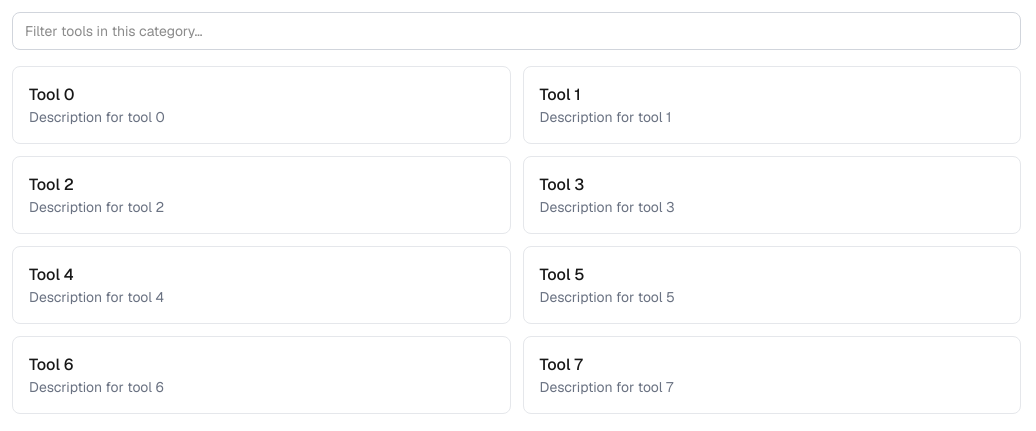
it: CategoryToolFilter › shows the filter input once a category has enough tools, and filters by name
Type "Tool 3" into the search field with placeholder "Filter tools in this category…".
click(516, 31); type("Tool 3")  # box [12, 12, 1021, 50]
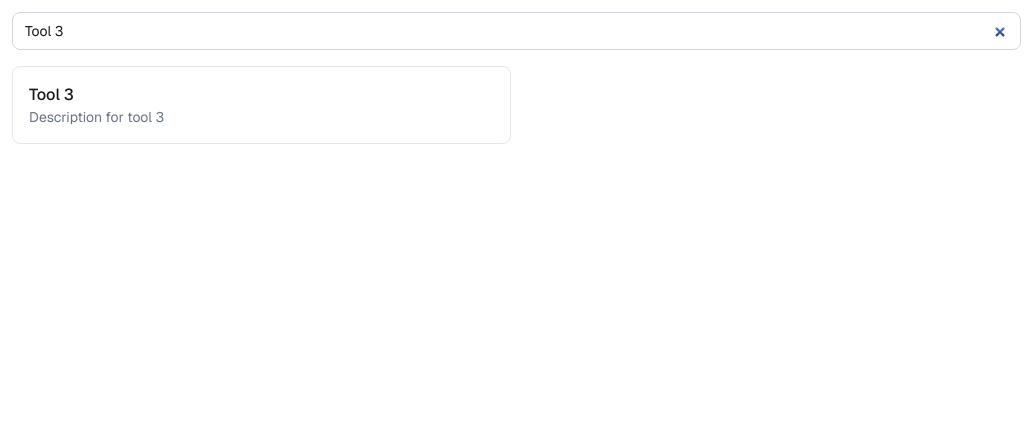
expect the link "Tool 3 Description for tool 3" is shown: met, box [12, 66, 510, 144]
expect the link "Tool 4" is gone: met
